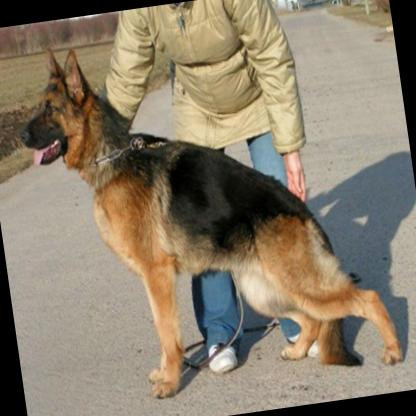German_shepherd: (5, 5, 406, 414)
